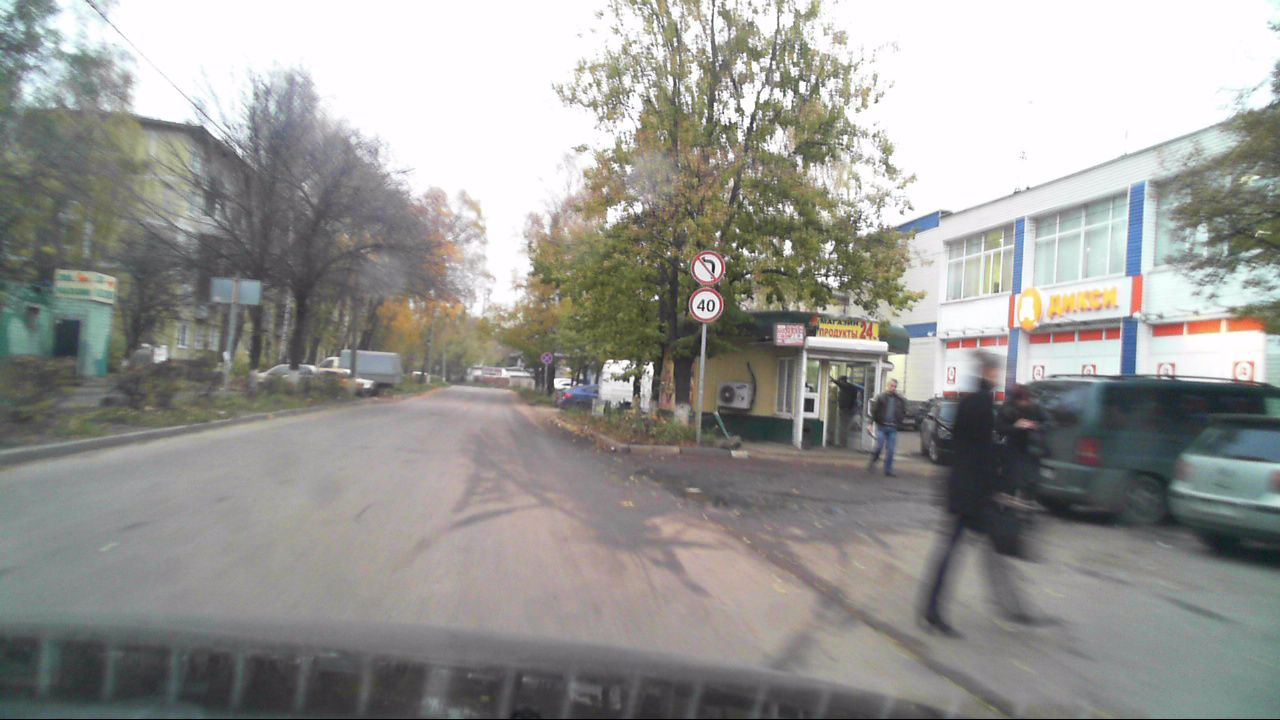speed_warning_40: (688, 289, 722, 323)
